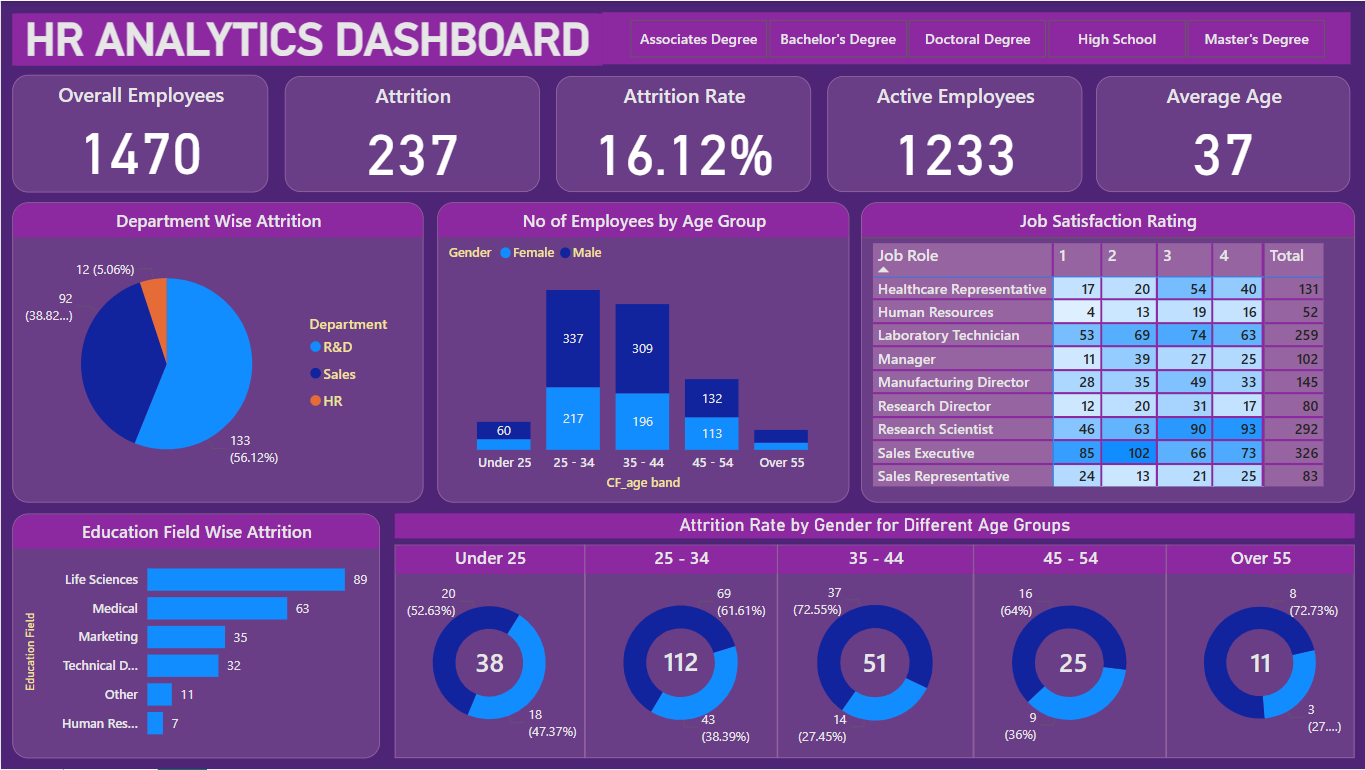

The page's visual inventory and layout, read from the dashboard file:
{"tool":"powerbi","page":{"name":"Page 1","canvas":[1280,720],"ordinal":0},"visuals":[{"type":"card","title":"Overall Employees","fields":{"Values":["Sum(Sheet1.Employee Count)"]},"box":[10.5,69.1,240.2,110.2],"z":0},{"type":"card","title":"Attrition","fields":{"Values":["Sum(Sheet1.Attrition Count)"]},"box":[266,70.3,239.1,109],"z":1000},{"type":"card","title":"Attrition Rate","fields":{"Values":["Sheet1.Attrition Count 1"]},"box":[520.3,70.3,239.1,109],"z":2000},{"type":"card","title":"Active Employees","fields":{"Values":["Sheet1.Active Employees"]},"box":[774.6,70.3,239.1,109],"z":3000},{"type":"card","title":"Average Age","fields":{"Values":["Avg(Sheet1.Age)"]},"box":[1026.2,70,238.8,108.8],"z":4000},{"type":"pieChart","title":"Department  Wise Attrition","fields":{"Category":["Sheet1.Department"],"Y":["Sum(Sheet1.Attrition Count)"]},"box":[10.5,188.7,385.6,281.3],"z":5000},{"type":"columnChart","title":"No of Employees by Age Group","fields":{"Category":["Sheet1.CF_age band"],"Y":["Sum(Sheet1.Employee Count)"],"Series":["Sheet1.Gender"]},"box":[409,188.7,386.7,281.3],"z":6000},{"type":"pivotTable","title":"Job Satisfaction Rating","fields":{"Rows":["Sheet1.Job Role"],"Columns":["Sheet1.Job Satisfaction"],"Values":["Sum(Sheet1.Employee Count)"]},"box":[806.3,188.7,462.9,281.3],"z":7000},{"type":"barChart","title":"Education Field Wise Attrition","fields":{"Category":["Sheet1.Education Field"],"Y":["Sum(Sheet1.Attrition Count)"]},"box":[10.5,480.5,344.5,229.7],"z":8000},{"type":"donutChart","title":"Under 25","fields":{"Category":["Sheet1.Gender"],"Y":["Sum(Sheet1.Attrition Count)"],"Series":["Sheet1.CF_age band"]},"box":[369.1,509.8,178,200.4],"z":9000},{"type":"textbox","title":"Attrition Rate by Gender for Different Age Groups","box":[369.1,480.5,900,23.4],"z":10000},{"type":"donutChart","title":" 25 - 34","fields":{"Category":["Sheet1.Gender"],"Y":["Sum(Sheet1.Attrition Count)"],"Series":["Sheet1.CF_age band"]},"box":[547.3,509.8,180.5,200.4],"z":11000},{"type":"donutChart","title":"35 - 44","fields":{"Category":["Sheet1.Gender"],"Y":["Sum(Sheet1.Attrition Count)"],"Series":["Sheet1.CF_age band"]},"box":[727.7,509.8,184,200.4],"z":12000},{"type":"donutChart","title":"45 - 54","fields":{"Category":["Sheet1.Gender"],"Y":["Sum(Sheet1.Attrition Count)"],"Series":["Sheet1.CF_age band"]},"box":[911.7,509.8,180.5,200.4],"z":13000},{"type":"donutChart","title":"Over 55","fields":{"Category":["Sheet1.Gender"],"Y":["Sum(Sheet1.Attrition Count)"],"Series":["Sheet1.CF_age band"]},"box":[1092.2,509.8,177,200.4],"z":14000},{"type":"card","fields":{"Values":["Sum(Sheet1.Attrition Count)"]},"box":[433.8,602.3,49.2,37.7],"z":15000},{"type":"card","fields":{"Values":["Sum(Sheet1.Attrition Count)"]},"box":[613.8,597.5,47.5,45],"z":16000},{"type":"card","fields":{"Values":["Sum(Sheet1.Attrition Count)"]},"box":[794.5,601.8,49.1,37.3],"z":17000},{"type":"card","fields":{"Values":["Sum(Sheet1.Attrition Count)"]},"box":[980.9,602.7,49.1,37.3],"z":18000},{"type":"card","fields":{"Values":["Sum(Sheet1.Attrition Count)"]},"box":[1156.4,601.8,49.1,37.3],"z":19000},{"type":"textbox","title":"HR ANALYTICS DASHBOARD","box":[10,11.2,553.8,48.8],"z":20000},{"type":"slicer","fields":{"Values":["Sheet1.Education"]},"box":[563.6,10.9,701.8,49.1],"z":20001}]}

Visuals, with their boxes in screenshot pixels (x1, y1, x2, y2), scaled from the page's 1280x720 canvas onto the 1365x770 screenshot:
"Overall Employees" card: box=[11, 74, 267, 192]
"Attrition" card: box=[284, 75, 539, 192]
"Attrition Rate" card: box=[555, 75, 810, 192]
"Active Employees" card: box=[826, 75, 1081, 192]
"Average Age" card: box=[1094, 75, 1349, 191]
"Department  Wise Attrition" pieChart: box=[11, 202, 422, 503]
"No of Employees by Age Group" columnChart: box=[436, 202, 849, 503]
"Job Satisfaction Rating" pivotTable: box=[860, 202, 1353, 503]
"Education Field Wise Attrition" barChart: box=[11, 514, 379, 760]
"Under 25" donutChart: box=[394, 545, 583, 760]
"Attrition Rate by Gender for Different Age Groups" textbox: box=[394, 514, 1353, 539]
" 25 - 34" donutChart: box=[584, 545, 776, 760]
"35 - 44" donutChart: box=[776, 545, 972, 760]
"45 - 54" donutChart: box=[972, 545, 1165, 760]
"Over 55" donutChart: box=[1165, 545, 1353, 760]
card - Sum(Sheet1.Attrition Count): box=[463, 644, 515, 684]
card - Sum(Sheet1.Attrition Count): box=[655, 639, 705, 687]
card - Sum(Sheet1.Attrition Count): box=[847, 644, 900, 683]
card - Sum(Sheet1.Attrition Count): box=[1046, 645, 1098, 684]
card - Sum(Sheet1.Attrition Count): box=[1233, 644, 1286, 683]
"HR ANALYTICS DASHBOARD" textbox: box=[11, 12, 601, 64]
slicer - Sheet1.Education: box=[601, 12, 1349, 64]
